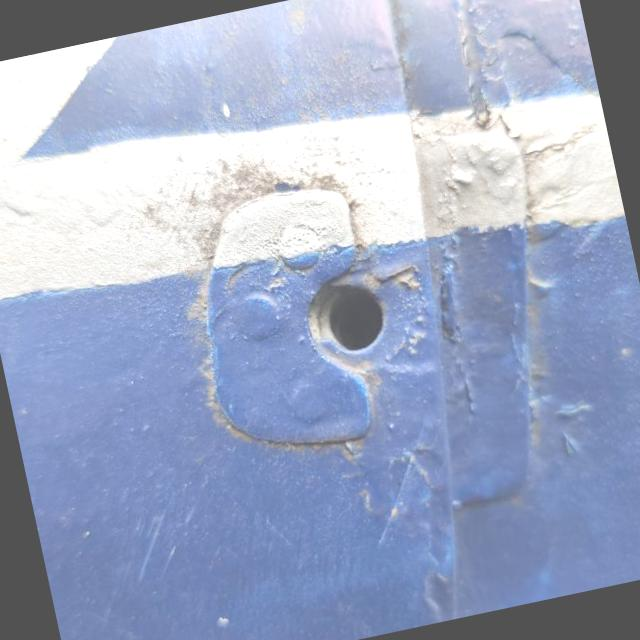Missing Fastener: (304, 272, 392, 358)
